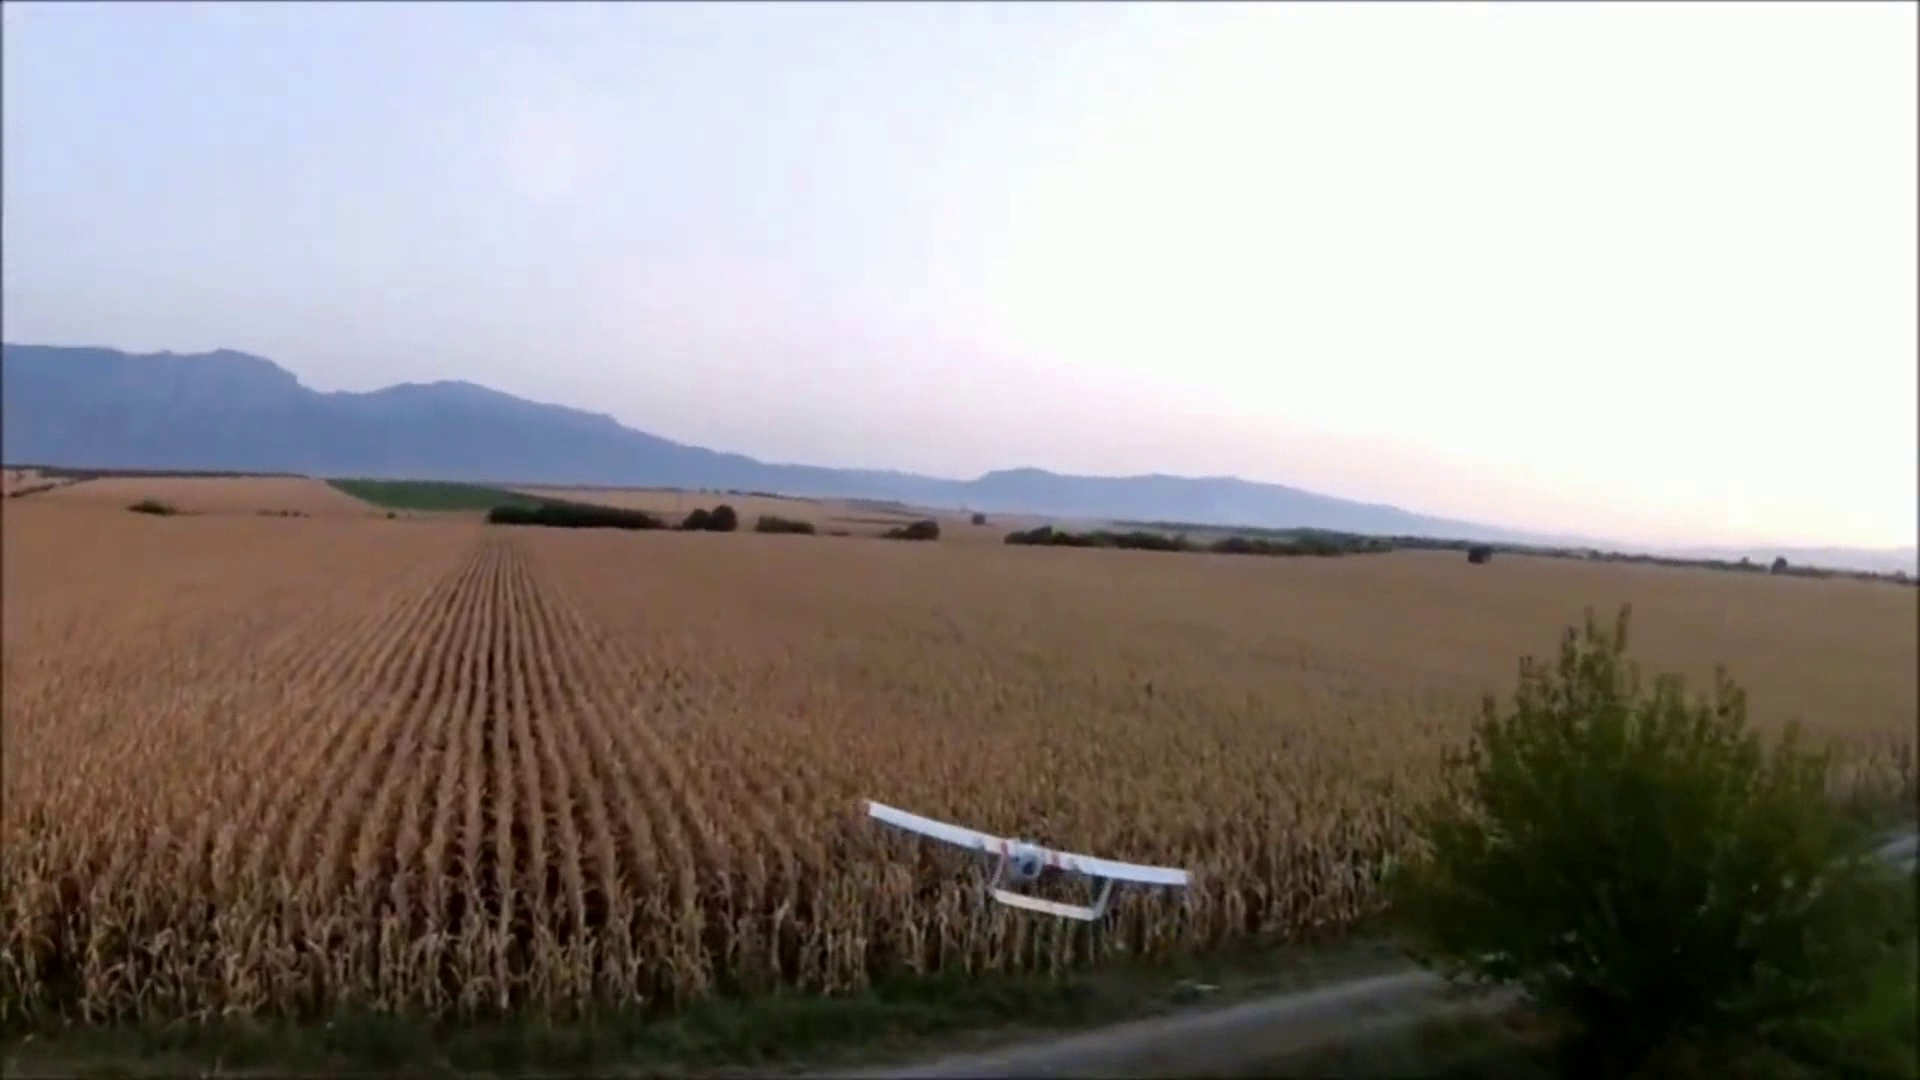airplane: (864, 801, 1197, 937)
